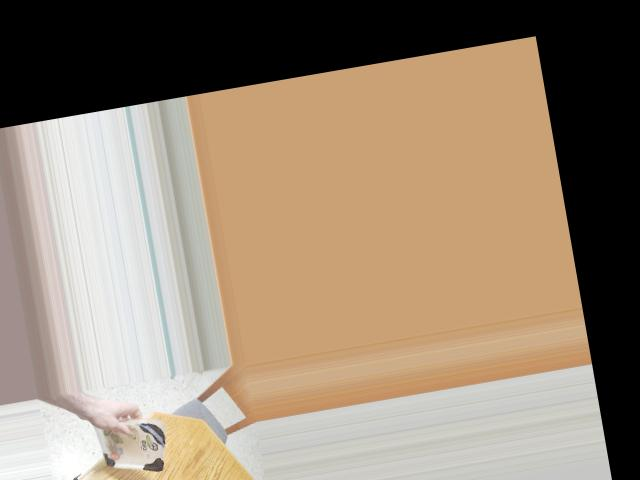cheese: (86, 413, 174, 477)
